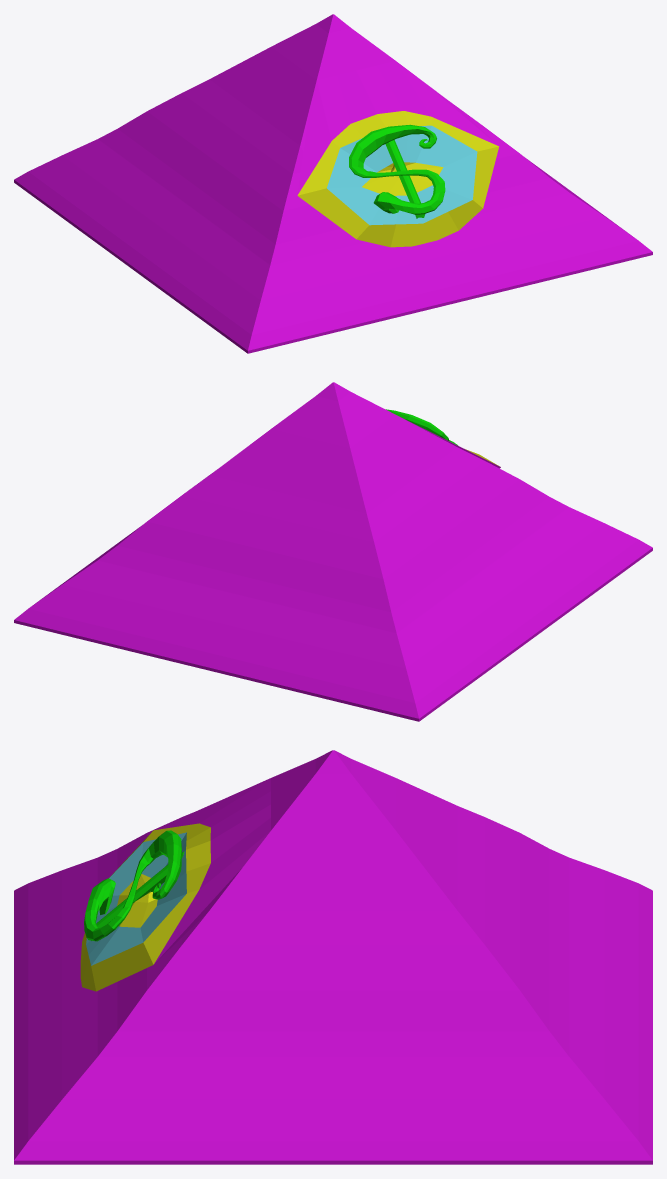
The model's file is Libertarian2.fbx.
3 renders of one model, top to bottom at view 1: azimuth 30°, elevation 25°; view 2: azimuth 150°, elevation 25°; view 3: azimuth 270°, elevation 25°, orthographic. The views are drawn at different scales.
Parts seen in each view (by area): view 1: Libertarian; view 2: Libertarian; view 3: Libertarian.
Boxes of the visible parts, x1,y1,x2,y2 form: Libertarian: (14,14,652,353); Libertarian: (14,382,652,721); Libertarian: (14,750,652,1164).
Size of the model in its own units: 200 by 96.35 by 200.
